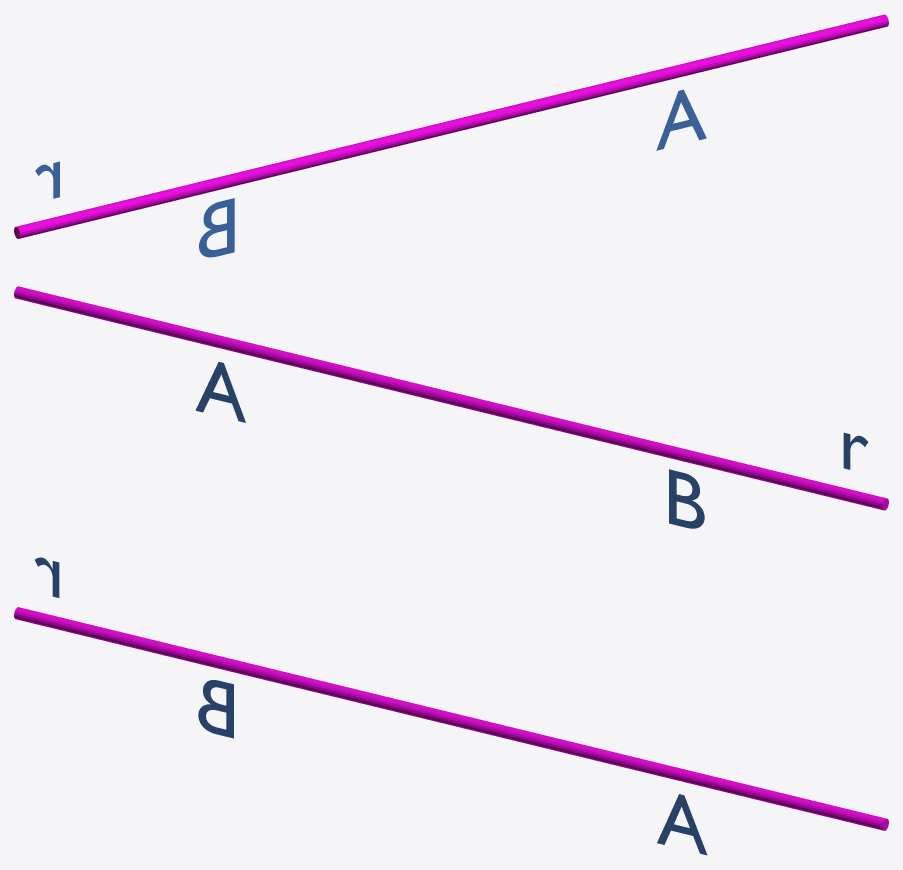
The model's file is ob1.1_reta.glb.
3 views of the same model, one above another, from view 1: azimuth 30°, elevation 25°; view 2: azimuth 150°, elevation 25°; view 3: azimuth 330°, elevation 25° (orthographic).
Visible parts, largest first — view 1: Cylinder1_Cylinder, Text_B_Text, Text_A_Text; view 2: Cylinder1_Cylinder, Text_B_Text, Text_A_Text; view 3: Cylinder1_Cylinder, Text_B_Text, Text_A_Text.
Boxes of the visible parts, x1=… form: Cylinder1_Cylinder: x1=14, y1=14, x2=888, y2=238; Text_B_Text: x1=199, y1=198, x2=234, y2=257; Text_A_Text: x1=656, y1=89, x2=706, y2=150; Cylinder1_Cylinder: x1=14, y1=286, x2=888, y2=510; Text_B_Text: x1=669, y1=469, x2=704, y2=528; Text_A_Text: x1=195, y1=362, x2=245, y2=422; Cylinder1_Cylinder: x1=14, y1=607, x2=888, y2=830; Text_B_Text: x1=198, y1=680, x2=233, y2=738; Text_A_Text: x1=657, y1=794, x2=707, y2=855.
Bounding box in the file's own units: 8 × 1.2 × 0.1018.
